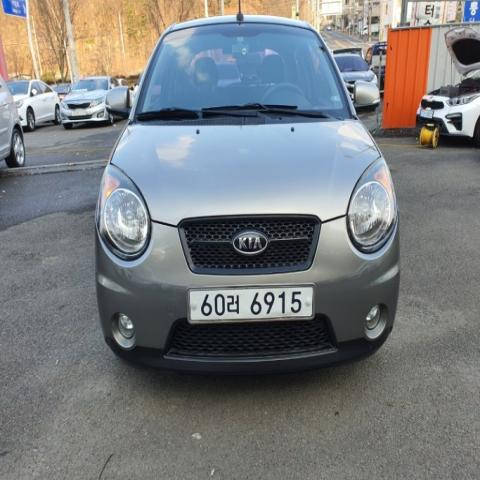LP: (185, 278, 319, 331)
